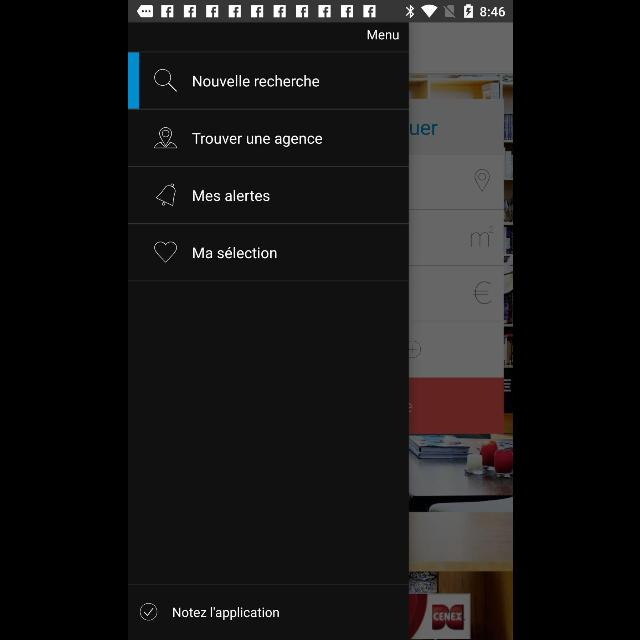icon: (154, 69, 176, 93), (154, 183, 176, 207), (154, 127, 176, 149), (154, 241, 176, 263), (139, 603, 157, 621)
panel: (128, 22, 408, 640)
text: (190, 132, 322, 148), (192, 74, 318, 88), (172, 607, 278, 621), (192, 247, 276, 260), (192, 190, 270, 202), (366, 30, 398, 40)
uppertaskbar: (128, 1, 512, 23)
